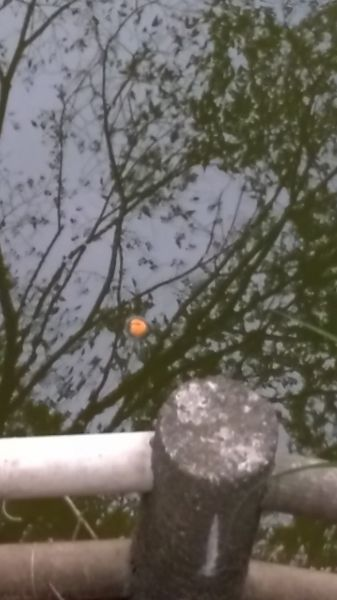eggs: (119, 311, 152, 341)
